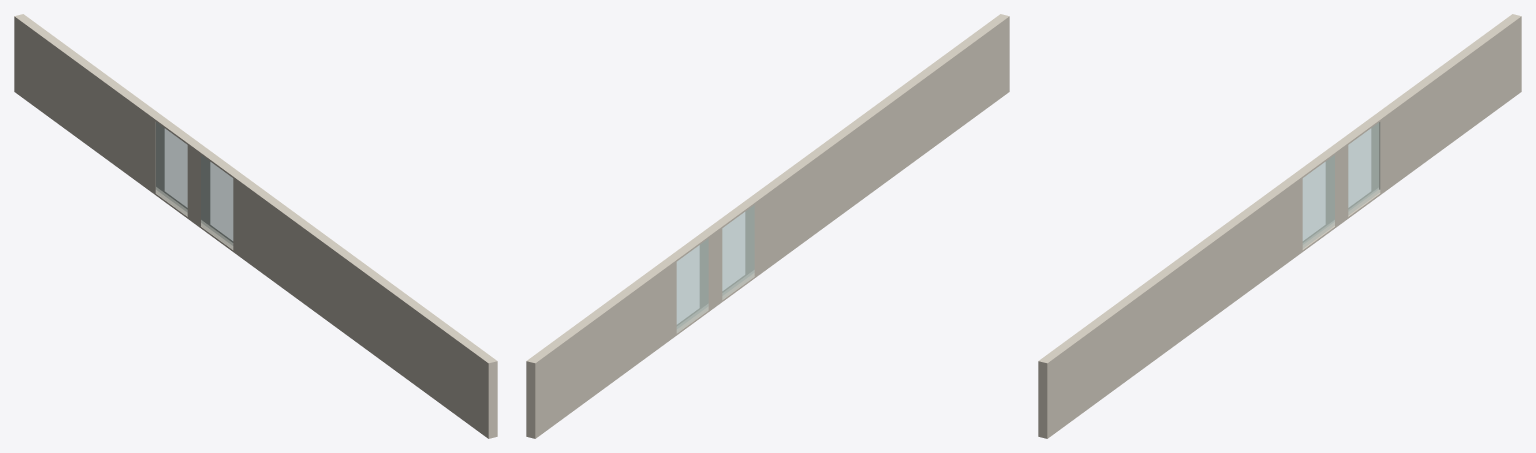
File: second wall with windows.fbx
3 renders of one model, left to right at view 1: azimuth 30°, elevation 25°; view 2: azimuth 150°, elevation 25°; view 3: azimuth 330°, elevation 25°, orthographic.
Visible parts, largest first — view 1: pCube250; view 2: pCube250; view 3: pCube250.
Part boxes in pixels (box(x1,y1,x2,y2)): pCube250: box(14, 14, 497, 438); pCube250: box(526, 14, 1009, 438); pCube250: box(1038, 14, 1521, 438).
Size of the model in its own units: 1.08 by 8.55 by 97.17.
